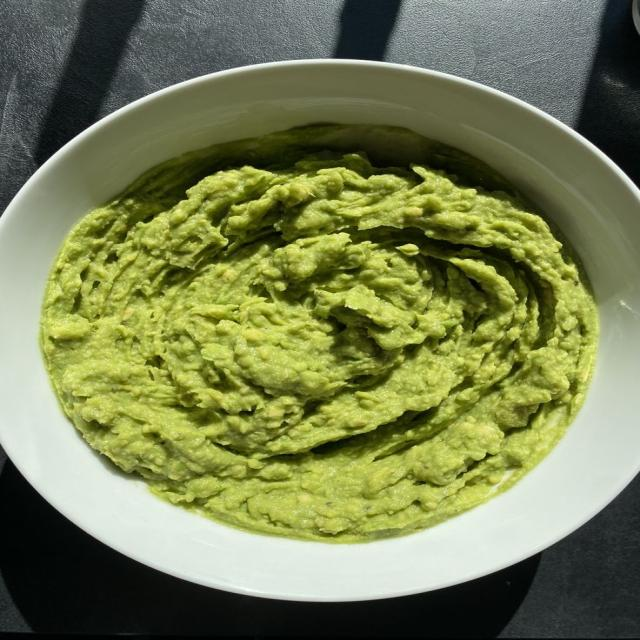avocado: (40, 126, 597, 542)
